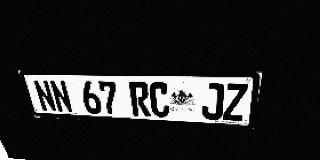6: (79, 81, 103, 114)
7: (97, 81, 120, 115)
C: (149, 82, 170, 118)
J: (202, 83, 225, 120)
N: (32, 80, 58, 112), (49, 80, 74, 113)
R: (129, 82, 151, 117)
Z: (223, 83, 248, 121)
